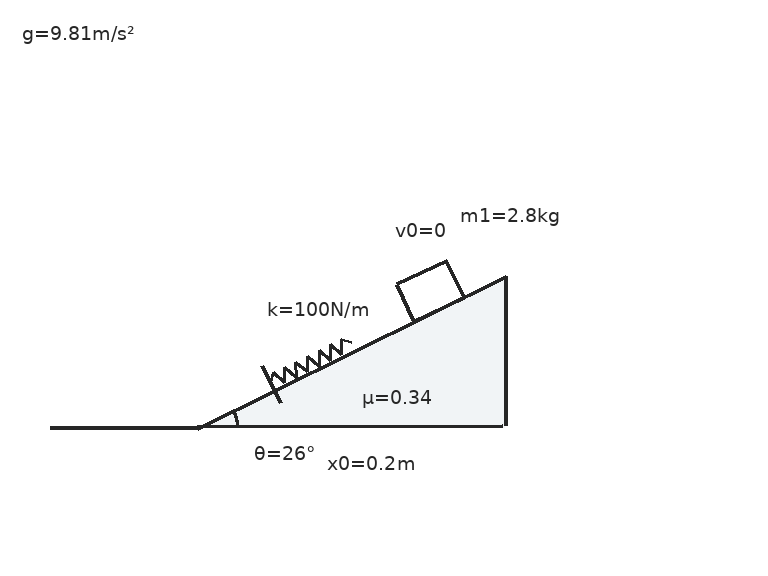block: (394, 258, 466, 323)
ramp: (195, 275, 506, 429)
spring: (268, 337, 352, 384)
